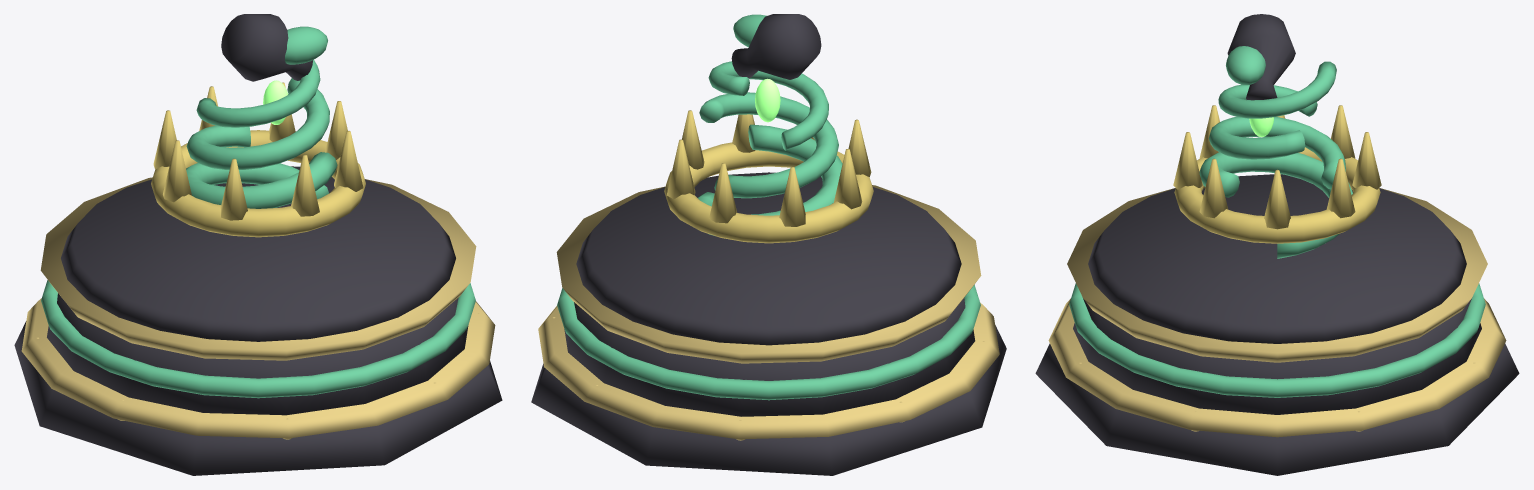
3 renders of one model, left to right at view 1: azimuth 30°, elevation 25°; view 2: azimuth 150°, elevation 25°; view 3: azimuth 270°, elevation 25°, orthographic. The views are drawn at different scales.
Visible parts, largest first — view 1: DC-003_King_Claudius; view 2: DC-003_King_Claudius; view 3: DC-003_King_Claudius.
Boxes of the visible parts, x1,y1,x2,y2 form: DC-003_King_Claudius: (14, 14, 502, 475); DC-003_King_Claudius: (531, 14, 1006, 475); DC-003_King_Claudius: (1035, 14, 1519, 475).
Bounding box in the file's own units: 0.92 × 0.7377 × 0.92.
